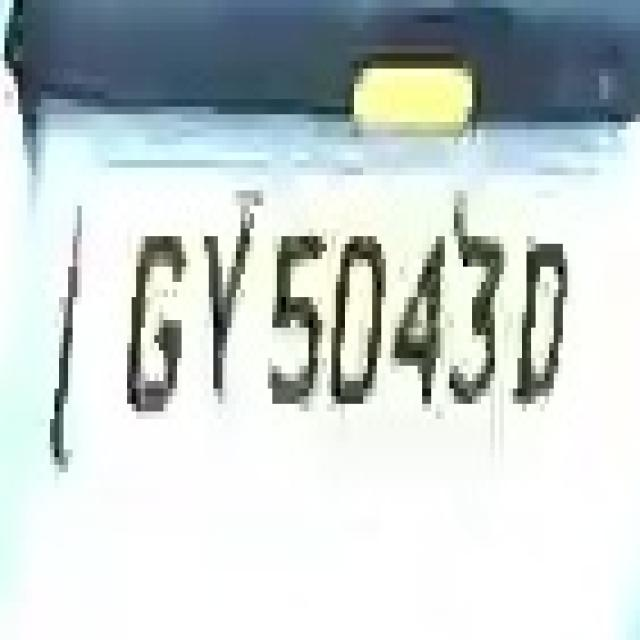0: (331, 183, 386, 411)
3: (445, 190, 504, 412)
4: (386, 198, 449, 434)
5: (264, 183, 332, 434)
D: (504, 206, 576, 419)
G: (118, 198, 195, 419)
Y: (191, 183, 254, 434)
